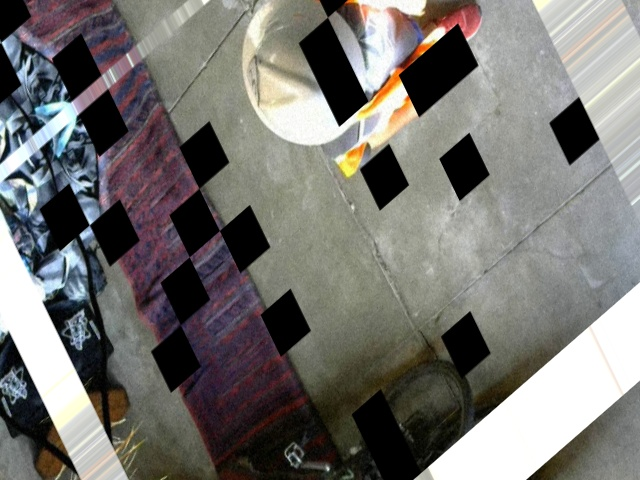three: (237, 54, 273, 108)
